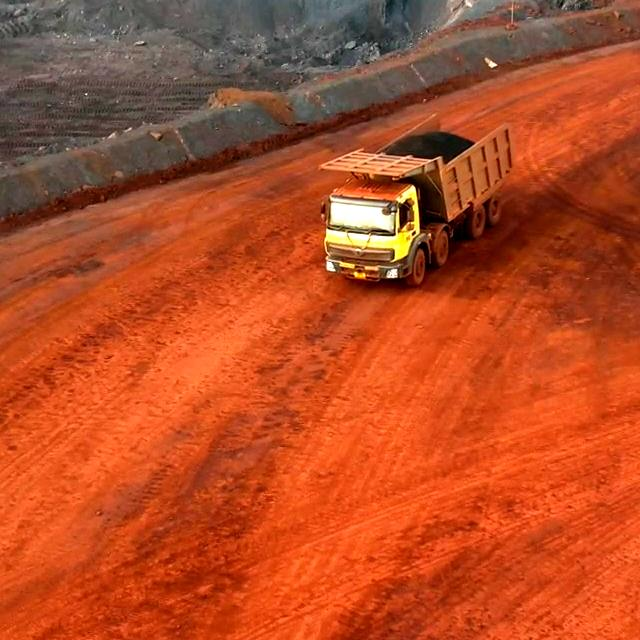Dumper truck: (320, 157, 433, 285)
